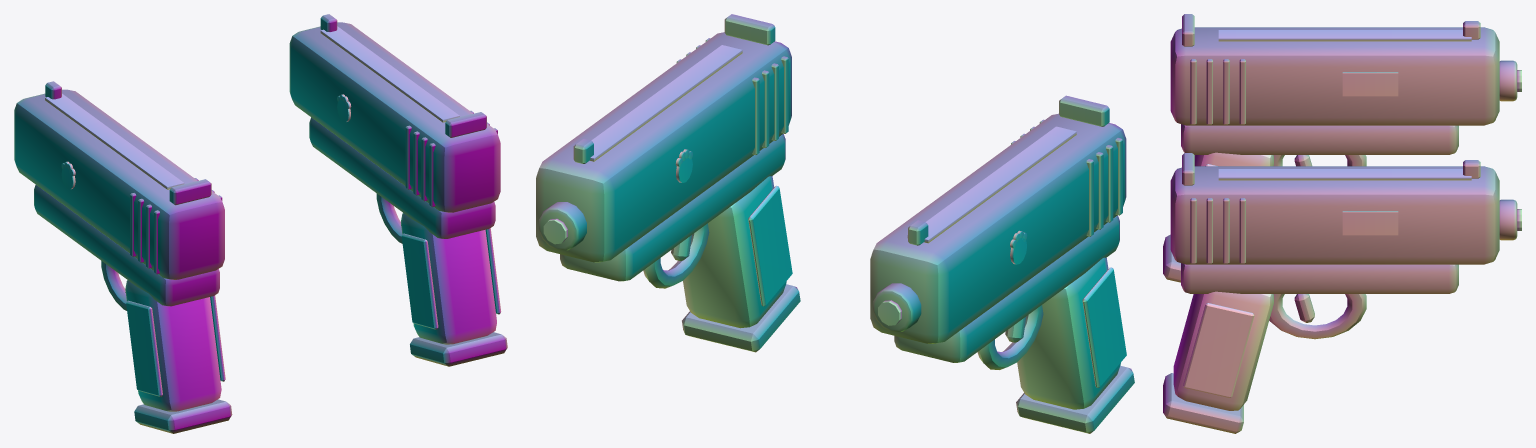
The model's file is wpn_dual.glb.
3 views of the same model, side by side, from view 1: azimuth 30°, elevation 25°; view 2: azimuth 150°, elevation 25°; view 3: azimuth 270°, elevation 25° (orthographic). The views are drawn at different scales.
Parts seen in each view (by area): view 1: wpn_dual_mesh; view 2: wpn_dual_mesh; view 3: wpn_dual_mesh.
Part boxes in pixels (x1,y1,x2,y2): wpn_dual_mesh: (14,14,507,433); wpn_dual_mesh: (536,14,1134,433); wpn_dual_mesh: (1163,14,1521,433).
Bounding box in the file's own units: 0.163 × 0.1128 × 0.1418.
